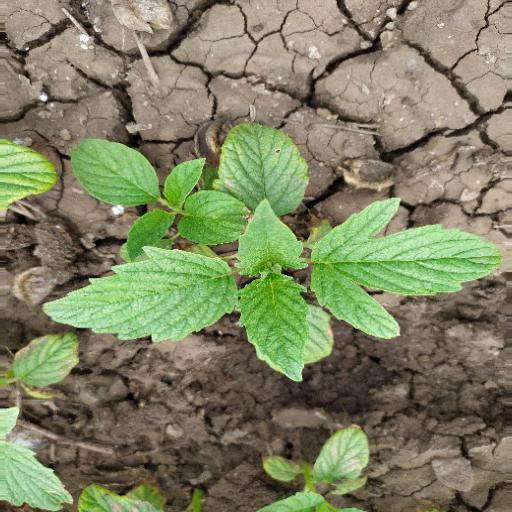crop: (50, 146, 512, 398)
